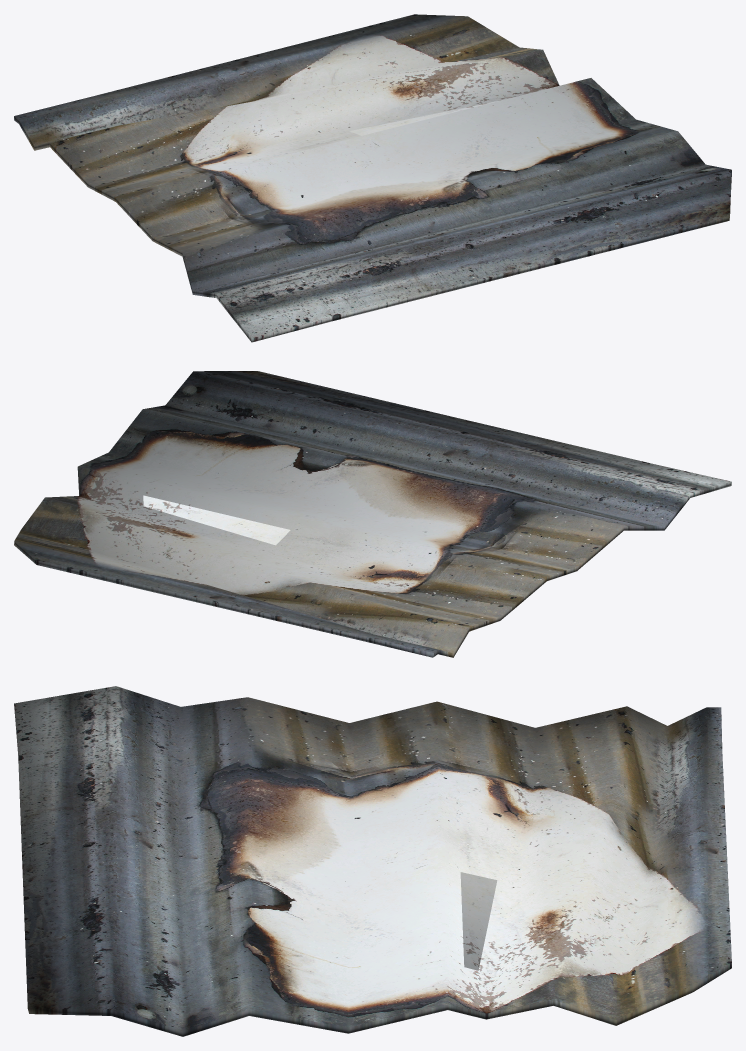
Rendered from rubbish7.obj.
3 views of the same model, one above another, from view 1: azimuth 30°, elevation 25°; view 2: azimuth 150°, elevation 25°; view 3: azimuth 270°, elevation 25° (orthographic). The views are drawn at different scales.
Parts seen in each view (by area): view 1: def_surf_mat; view 2: def_surf_mat; view 3: def_surf_mat.
Boxes of the visible parts, left/top/right/bottom form: def_surf_mat: left=14, top=14, right=731, bottom=342; def_surf_mat: left=14, top=371, right=731, bottom=657; def_surf_mat: left=14, top=686, right=731, bottom=1036.
Size of the model in its own units: 52.2 by 1.98 by 48.34.
1 material, 1 textured.
